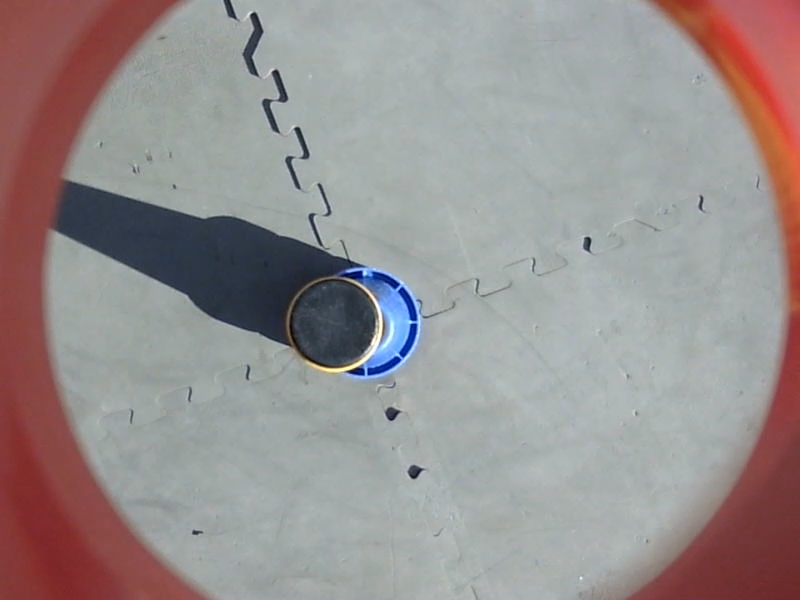tip: (284, 271, 387, 376)
